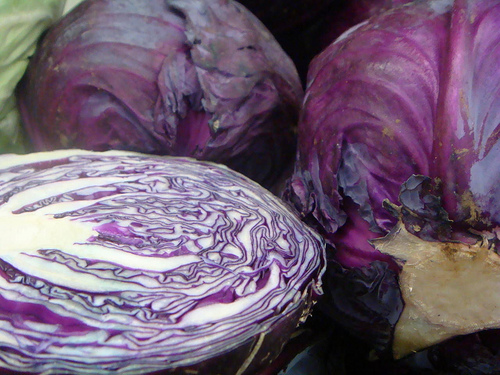cabbage: (294, 4, 499, 363), (0, 151, 324, 374), (16, 0, 307, 193)
